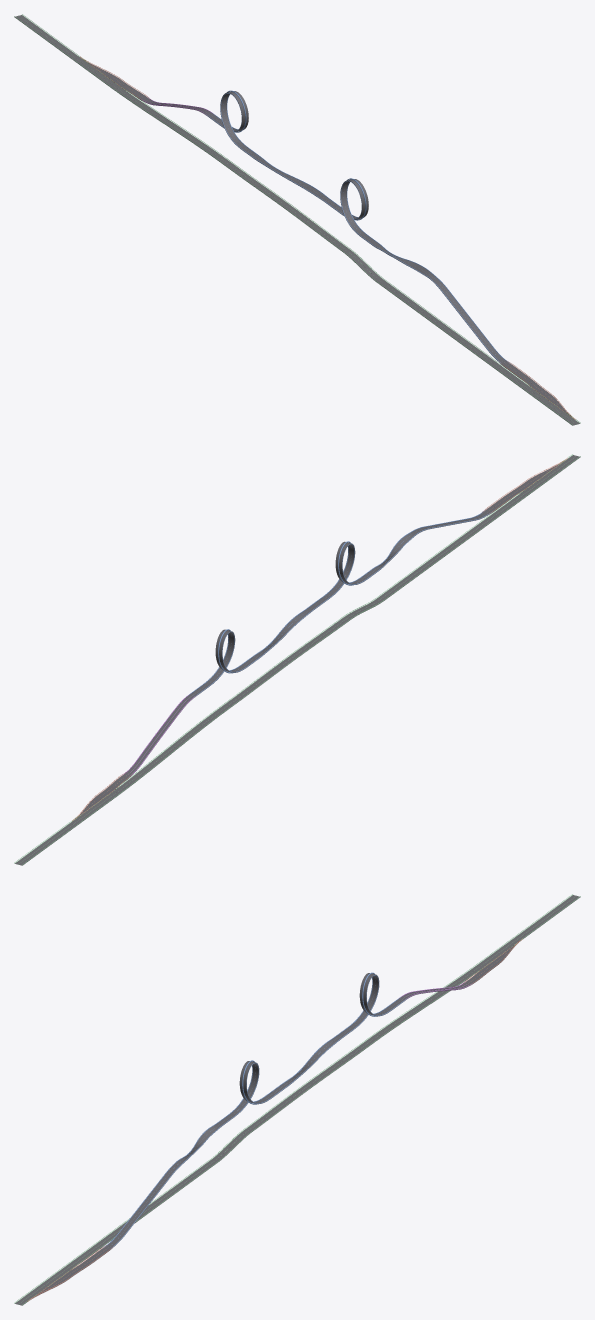
File: lp01_skydeck_v5_draco.glb
The picture shows the model from 3 angles, top to bottom: view 1: azimuth 30°, elevation 25°; view 2: azimuth 150°, elevation 25°; view 3: azimuth 330°, elevation 25°; orthographic projection.
Visible parts, largest first — view 1: LP01_T_deck, LP01_L_deck, LP01_L_cable_railR, LP01_L_cable_railL, LP01_T_cable_railR, LP01_T_cable_railL; view 2: LP01_T_deck, LP01_L_deck, LP01_L_cable_railR, LP01_L_cable_railL, LP01_T_cable_railR, LP01_T_cable_railL, LP01_T_cable_edgeL; view 3: LP01_T_deck, LP01_L_deck, LP01_L_cable_railL, LP01_L_cable_railR, LP01_T_cable_railR, LP01_T_cable_edgeR.
Part boxes in pixels (x1,y1,x2,y2): LP01_T_deck: (14,15,579,425); LP01_L_deck: (88,62,568,414); LP01_L_cable_railR: (92,66,562,410); LP01_L_cable_railL: (80,56,575,419); LP01_T_cable_railR: (14,16,572,424); LP01_T_cable_railL: (22,14,580,422); LP01_T_deck: (15,455,580,865); LP01_L_deck: (79,464,559,815); LP01_L_cable_railR: (85,469,552,811); LP01_L_cable_railL: (72,458,567,820); LP01_T_cable_railR: (22,456,580,864); LP01_T_cable_railL: (14,454,572,862); LP01_T_cable_edgeL: (15,455,572,863); LP01_T_deck: (15,895,580,1305); LP01_L_deck: (29,941,520,1300); LP01_L_cable_railL: (30,938,522,1299); LP01_L_cable_railR: (44,952,504,1289); LP01_T_cable_railR: (14,894,572,1302); LP01_T_cable_edgeR: (14,895,572,1303).
Bounding box in the file's own units: 26.86 × 116 × 1480.
